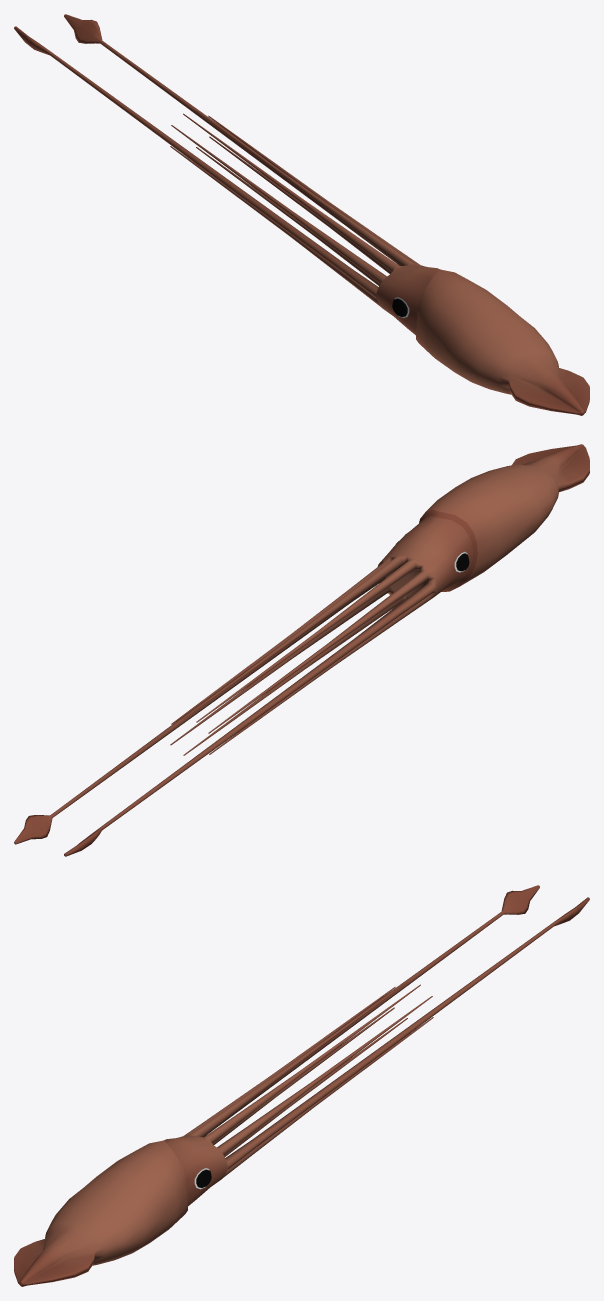
Rendered from underwater-sea-invertebrates-squid_v1.fbx.
3 renders of one model, top to bottom at view 1: azimuth 30°, elevation 25°; view 2: azimuth 150°, elevation 25°; view 3: azimuth 330°, elevation 25°, orthographic.
Parts seen in each view (by area): view 1: Squid; view 2: Squid; view 3: Squid.
Part boxes in pixels (x1,y1,x2,y2): Squid: (14,14,589,415); Squid: (14,444,589,856); Squid: (14,885,589,1286).
Bounding box in the file's own units: 0.0521 × 0.0481 × 0.6.
